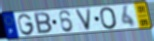4: (121, 4, 137, 29)
6: (58, 9, 74, 34)
B: (33, 12, 54, 35)
G: (17, 13, 36, 36)
O: (99, 6, 119, 30)
V: (73, 8, 92, 32)
